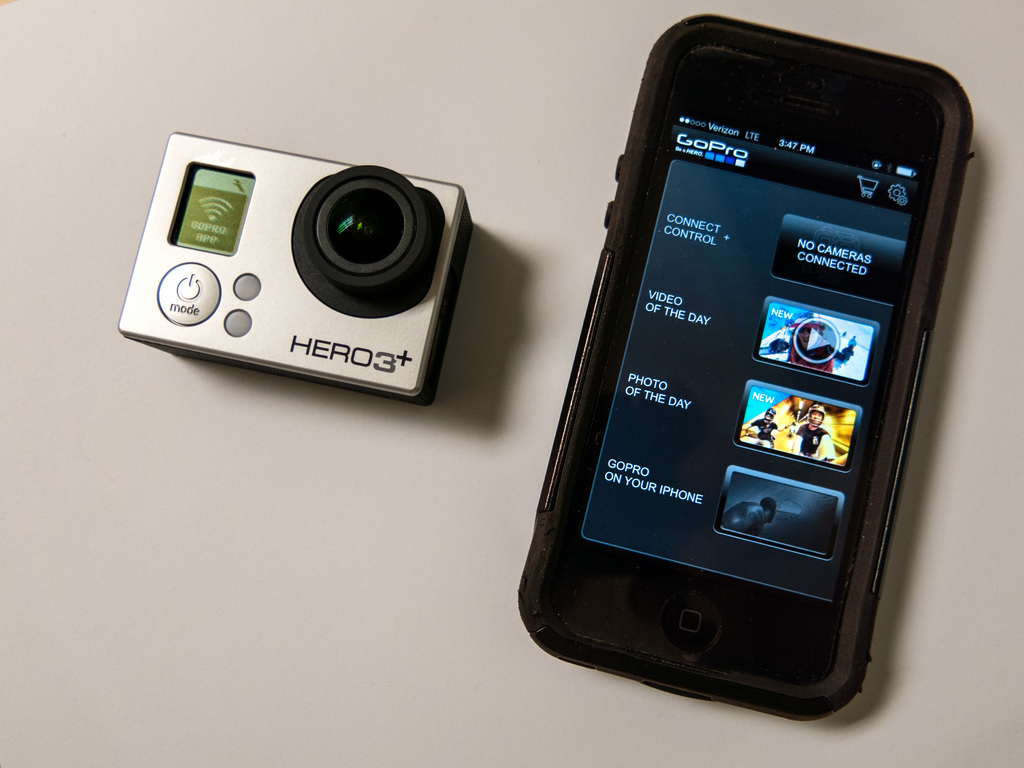Mobile-phone: (515, 11, 979, 726)
